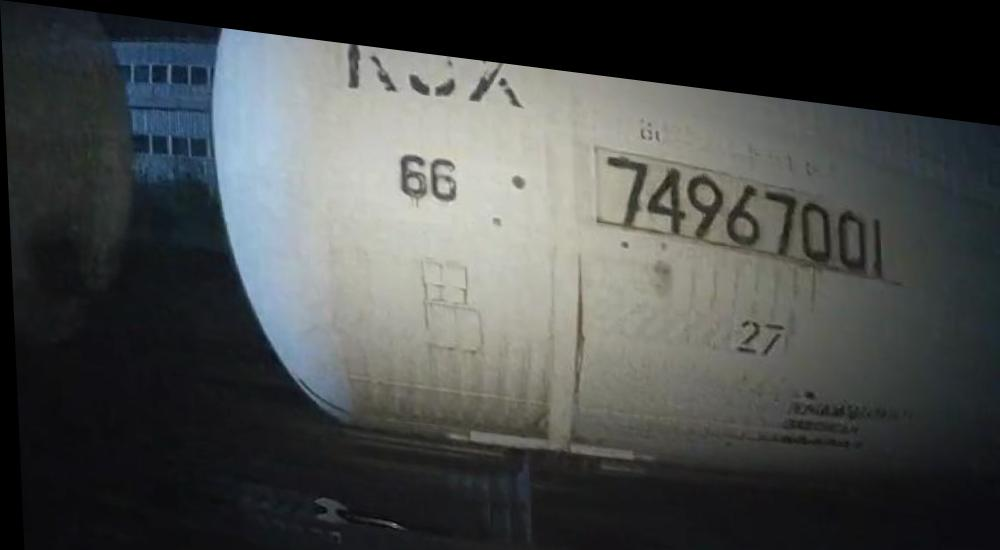Wagon-number: (599, 136, 889, 260)
